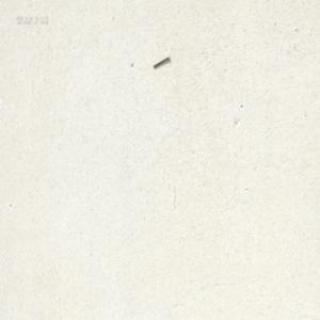Bolttrack_idkeyframe: (151, 54, 169, 66)
